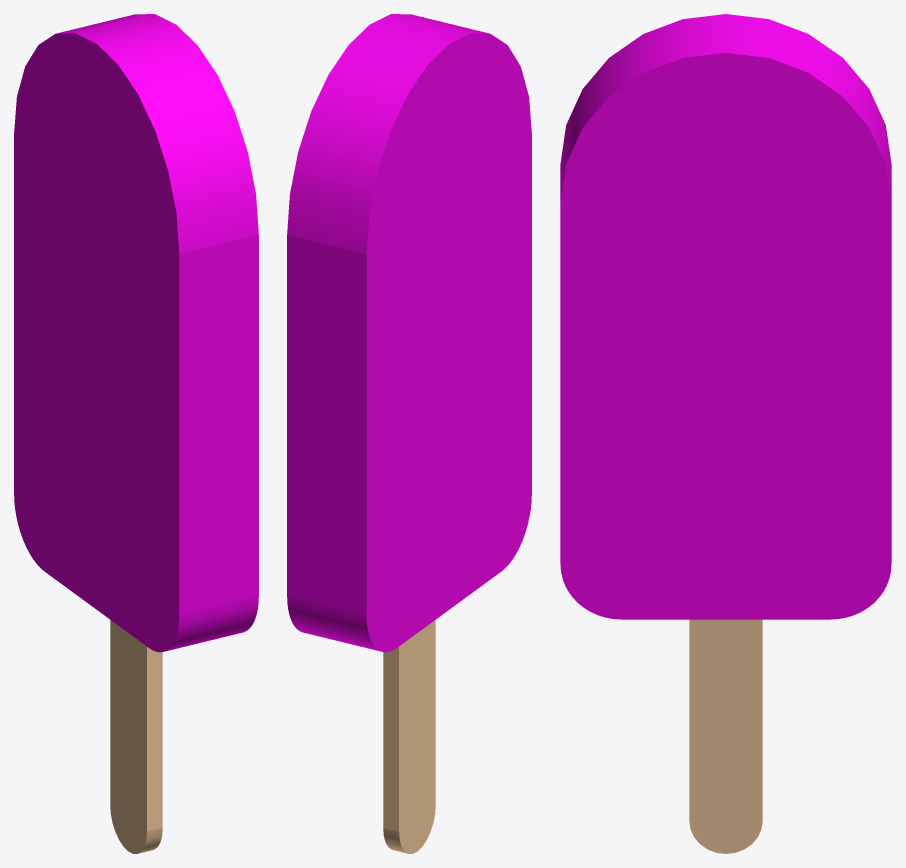
The model's file is popsicle_pink.fbx.
3 views of the same model, side by side, from view 1: azimuth 30°, elevation 25°; view 2: azimuth 150°, elevation 25°; view 3: azimuth 270°, elevation 25° (orthographic).
Parts seen in each view (by area): view 1: popsicle; view 2: popsicle; view 3: popsicle.
Part boxes in pixels (x1,y1,x2,y2): popsicle: (14,14,258,853); popsicle: (287,14,531,853); popsicle: (560,14,891,853).
Bounding box in the file's own units: 5 × 49 × 18.
